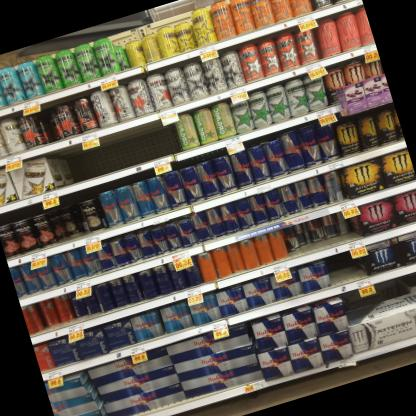empty_space: (70, 148, 113, 184), (141, 121, 177, 161), (111, 132, 145, 172), (328, 259, 360, 288)
